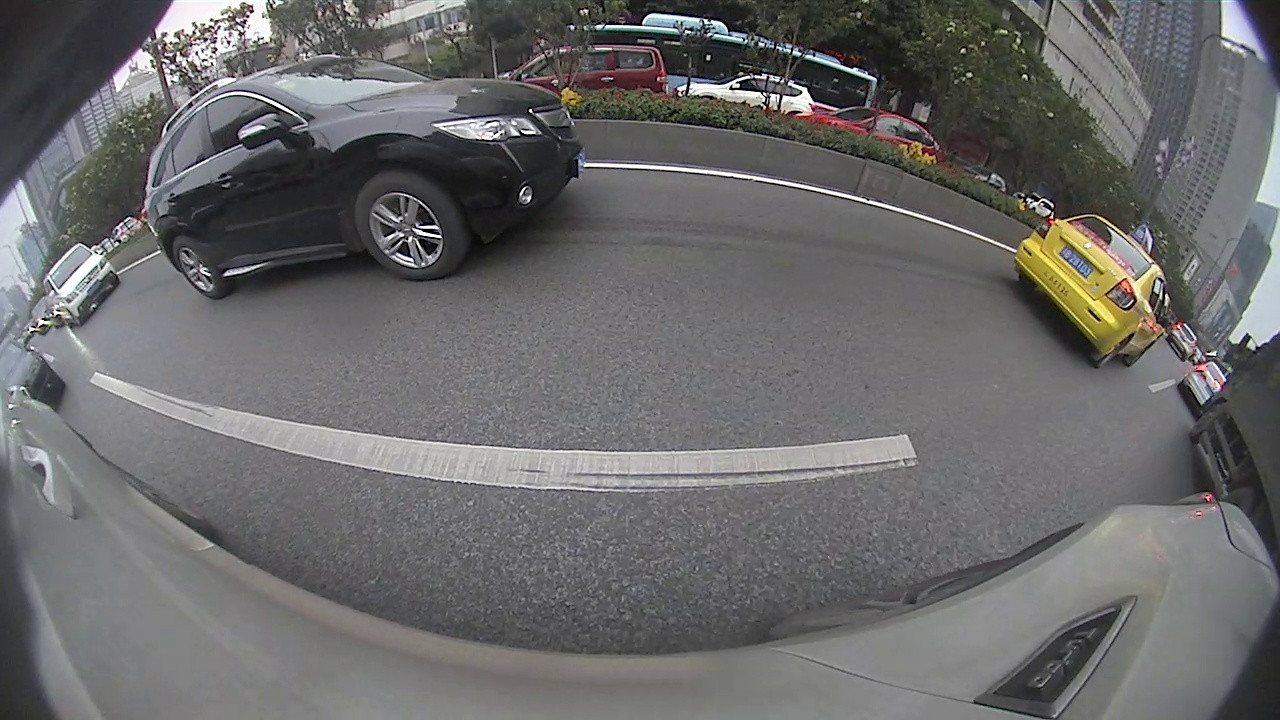car: (145, 54, 583, 301), (1011, 212, 1163, 368), (41, 243, 118, 326), (1181, 362, 1227, 412), (1168, 322, 1198, 360)
front: (356, 172, 463, 279)
rear: (172, 233, 222, 299), (1093, 333, 1131, 366)
